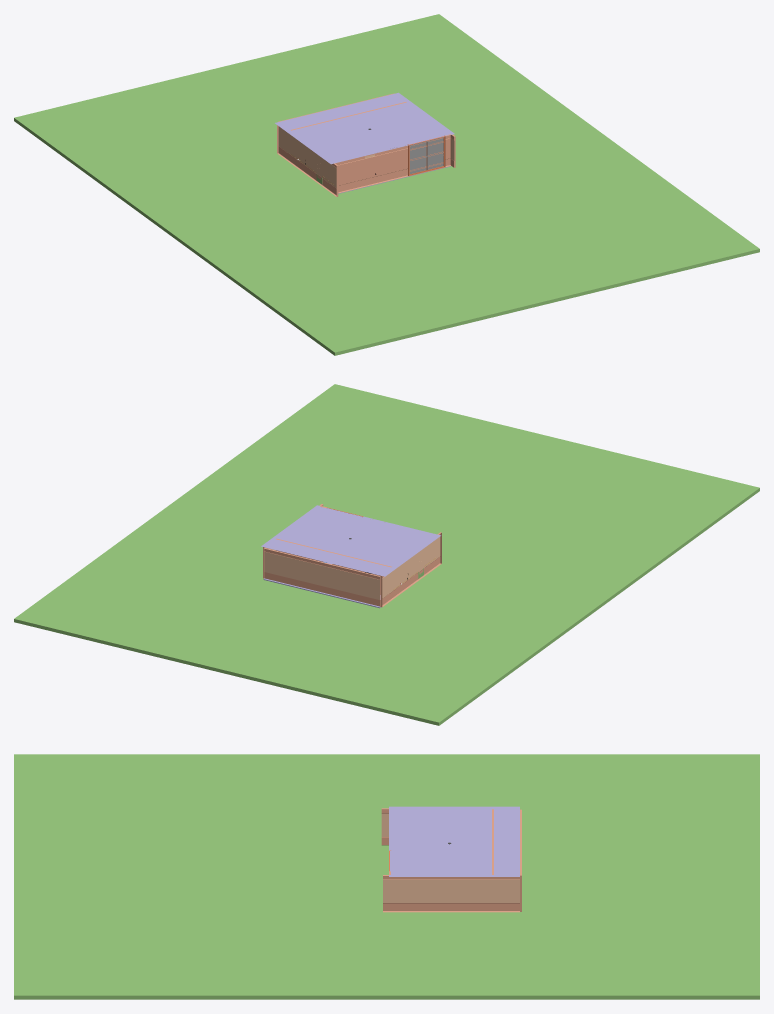
File: sence_F.fbx
3 views of the same model, one above another, from view 1: azimuth 30°, elevation 25°; view 2: azimuth 150°, elevation 25°; view 3: azimuth 270°, elevation 25° (orthographic). The views are drawn at different scales.
Parts seen in each view (by area): view 1: group3; view 2: group3; view 3: group3.
Part boxes in pixels (x1=…): group3: x1=14, y1=14, x2=759, y2=355; group3: x1=14, y1=384, x2=759, y2=725; group3: x1=14, y1=754, x2=759, y2=999.
Size of the model in its own units: 5.22 by 0.4185 by 6.83.
3 materials, 1 textured.
